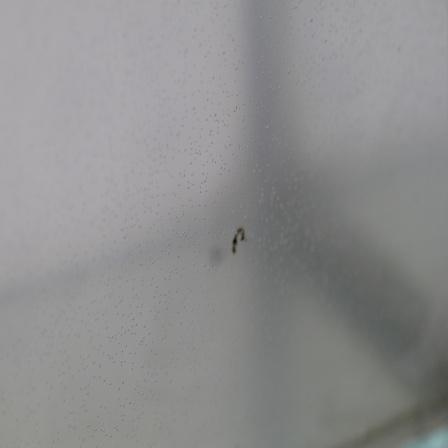Jentik-Nyamuk: (228, 224, 248, 257)
